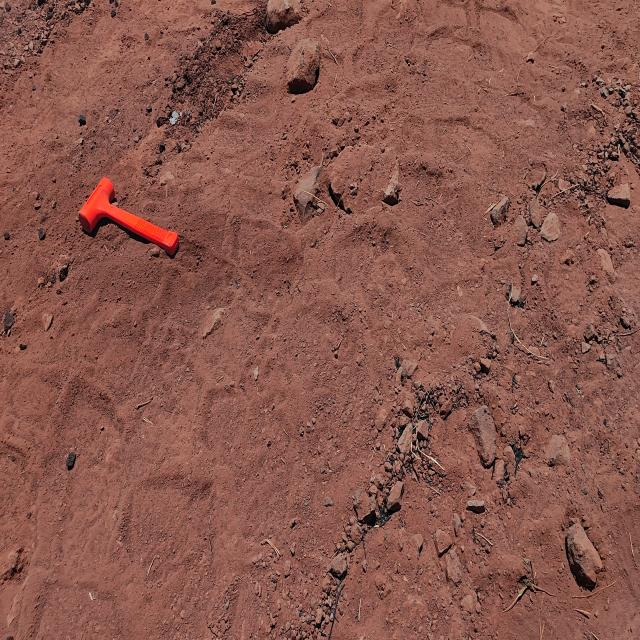Orange_hammer: (78, 175, 179, 258)
